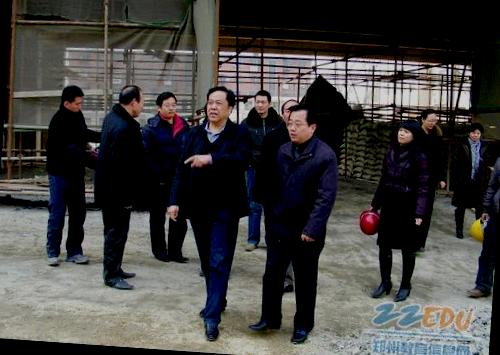no_helmet: (200, 82, 236, 127), (284, 102, 318, 144), (115, 82, 146, 120), (392, 118, 424, 151), (57, 82, 85, 114), (152, 89, 179, 120), (279, 97, 300, 125), (252, 87, 272, 116), (418, 106, 440, 132), (463, 118, 484, 143)
